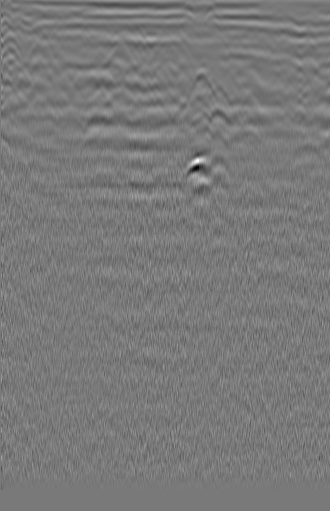가스: (175, 150, 220, 186)
상수: (272, 38, 306, 66)
오수: (20, 36, 56, 71)
우수: (139, 28, 180, 70)
